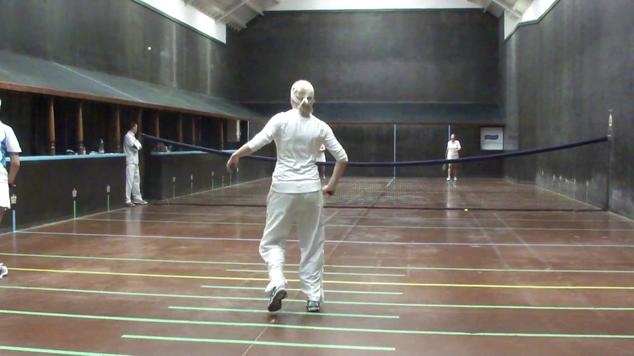stay: (120, 120, 147, 210)
walk: (0, 98, 24, 231)
